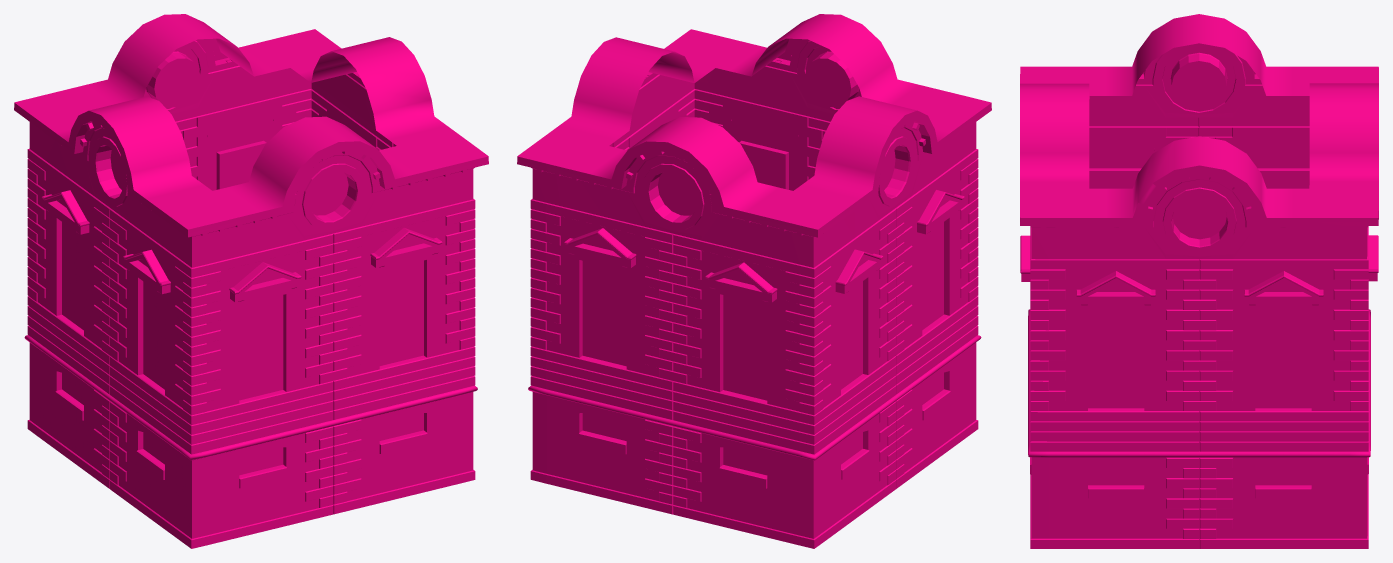
Rendered from Building_LOD0.FBX.
3 renders of one model, left to right at view 1: azimuth 30°, elevation 25°; view 2: azimuth 150°, elevation 25°; view 3: azimuth 270°, elevation 25°, orthographic. The views are drawn at different scales.
Parts seen in each view (by area): view 1: LOD0; view 2: LOD0; view 3: LOD0.
Part boxes in pixels (x1,y1,x2,y2): LOD0: [14, 14, 488, 548]; LOD0: [517, 14, 991, 548]; LOD0: [1020, 14, 1378, 548].
Size of the model in its own units: 43153 by 51579 by 43214.
